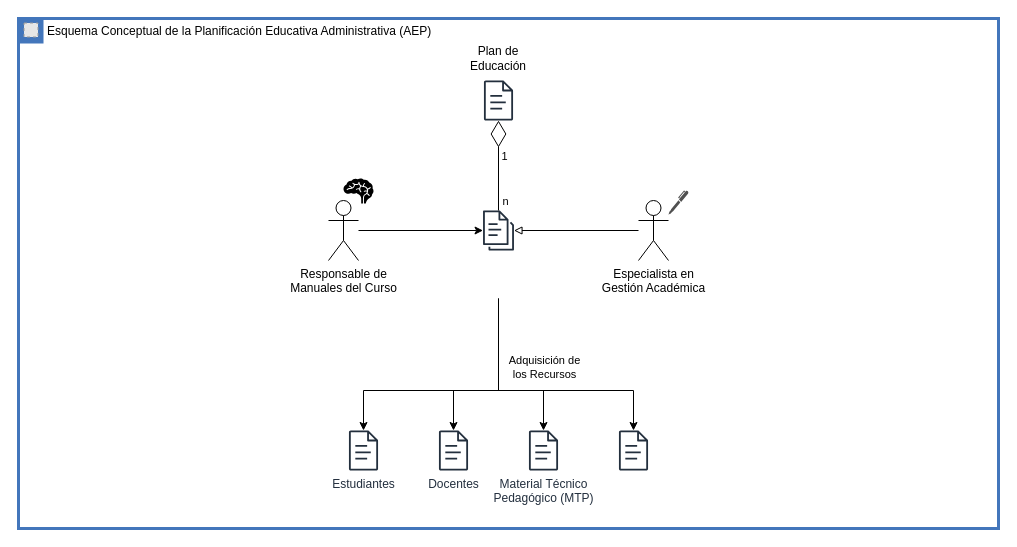
Some shapes in this 1017 by 547 pixel diagram are drawn without their labels. Grey dashed boxes stand in for pictures. The centre of each missing label's shape, as x and y in pixels:
"AEPs" goes at point 633,450.
"Planificación Educativa Administrativa" goes at point 498,230.
